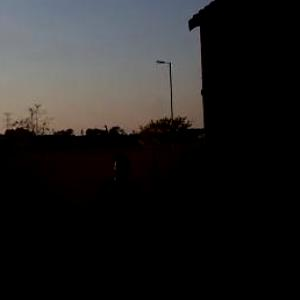follow: (88, 146, 163, 299)
